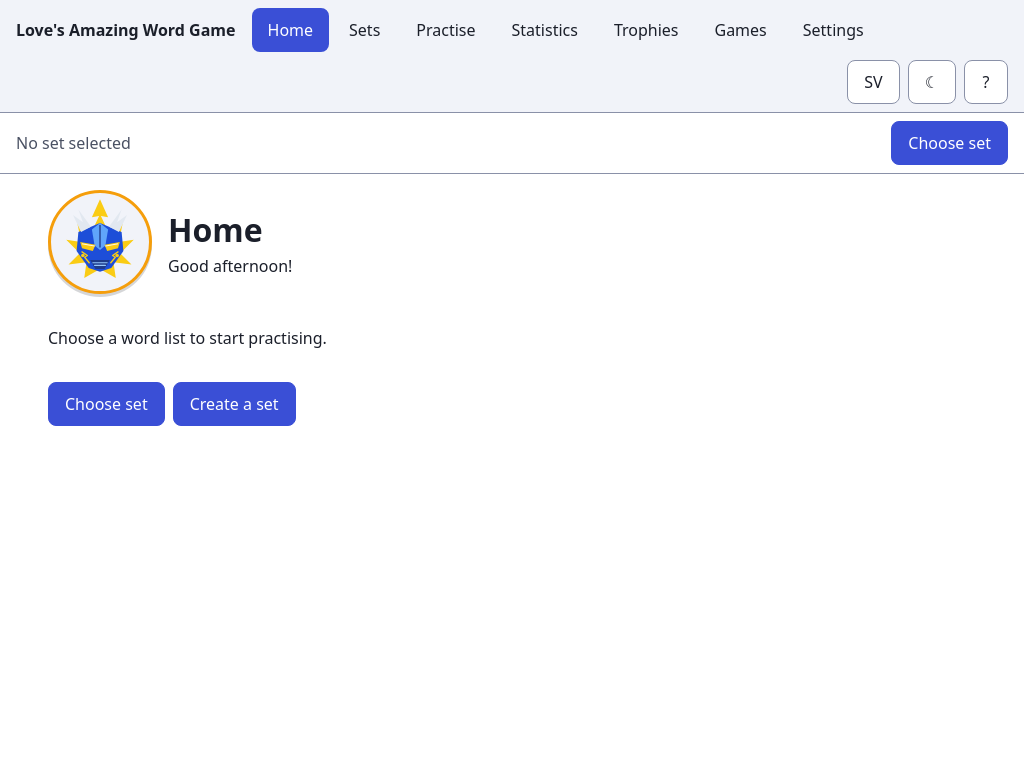
Test case: keyboard shortcut help (NH-6) › NH-6: the header button opens the list without a keyboard
Click the button named "Keyboard shortcuts" at (986, 82), box [964,60,1008,104]
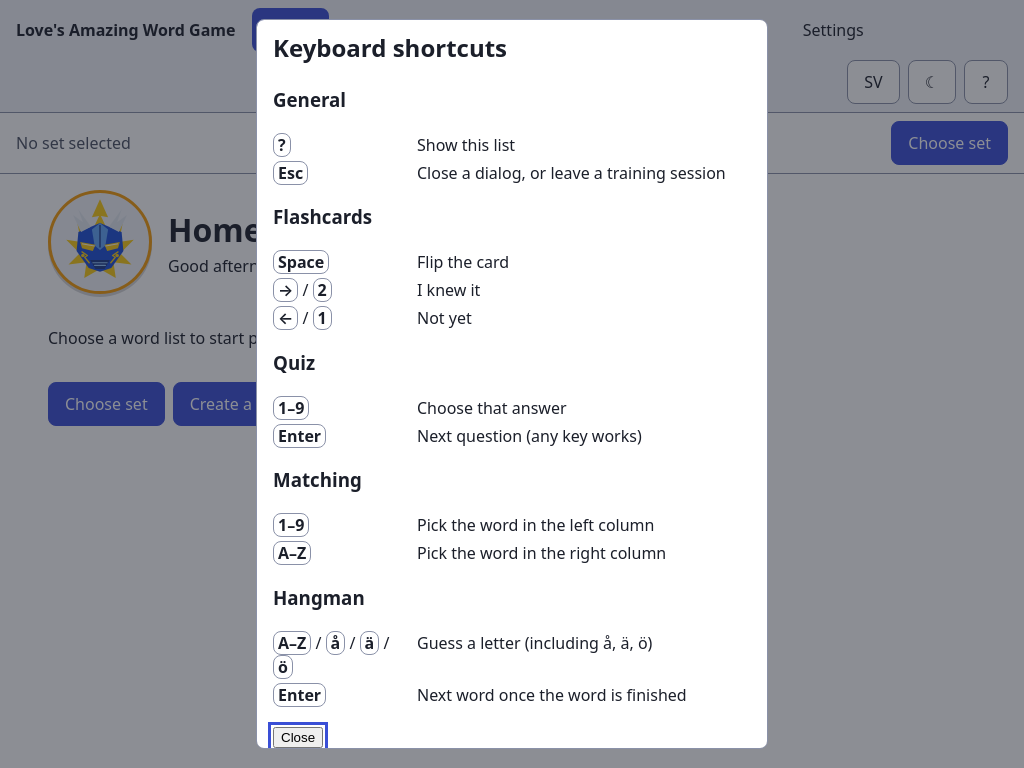
Now the dialog "Keyboard shortcuts" is shown, box [256,19,768,749]
Click the button "Close" at (298, 737), box [273,727,323,748]
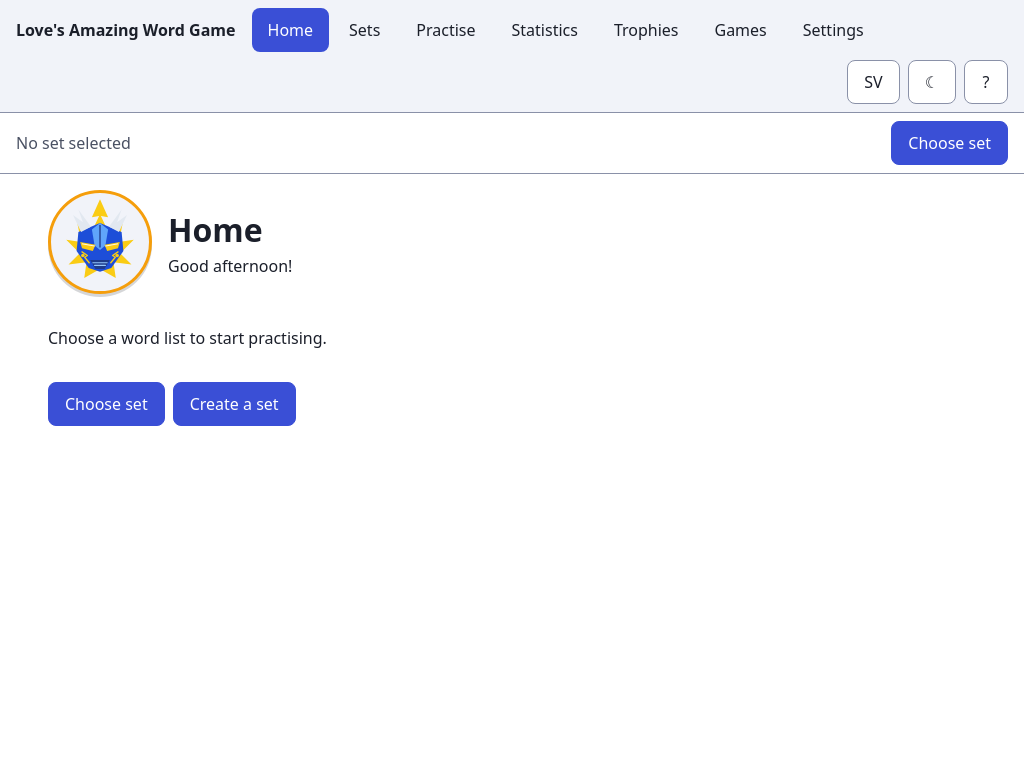
Now the dialog is gone
